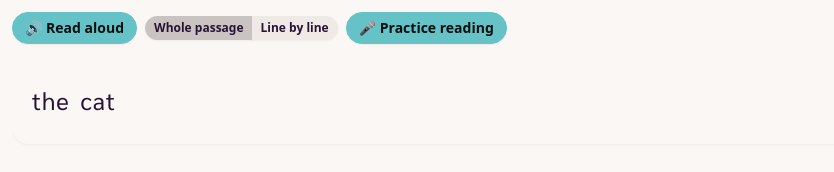
Test: Reader — Practice control › line mode: the toggle reveals the TTS preview control and a tap-line hint (no Practice button)
The width and height of the screenshot is (834, 172).
Click the button with test id "mode-line". click: coordinates (295, 28)
box: [252, 16, 338, 40]
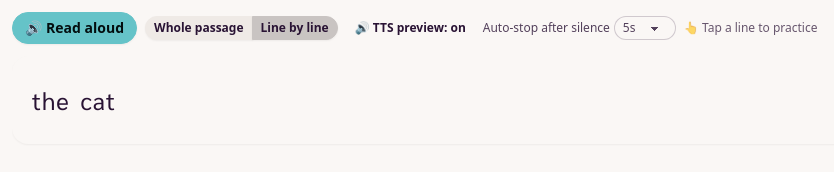
Check: the button with test id "tts-preview-toggle" is shown, box [346, 16, 475, 40]
Check: the text "👆 Tap a line to practice" is shown, box [684, 20, 818, 36]
Check: the button with test id "practice" is gone
